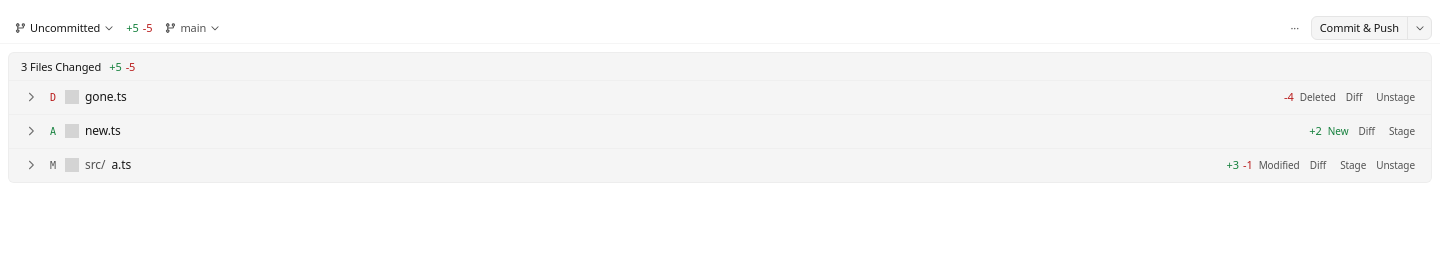
ChangesPanel › exposes Layout, Ignore Whitespace, and Find in the more menu
Click the button named "More changes actions": (1295, 28) [1283,16,1307,40]
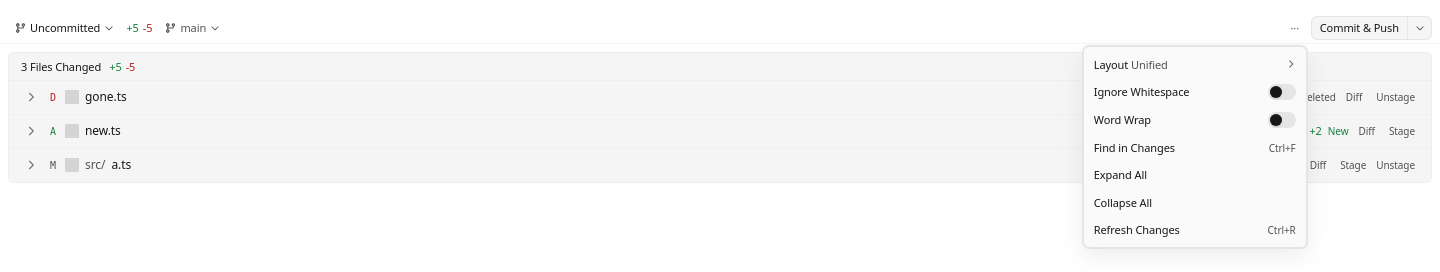
Check: the text "Layout Unified" is shown, box [1094,56,1168,72]
Check: the switch named "Ignore Whitespace" is shown, box [1268,84,1296,100]
Check: the button "Find in Changes Ctrl+F" is shown
Click the button "Find in Changes Ctrl+F": (1195, 148) [1084,134,1306,161]
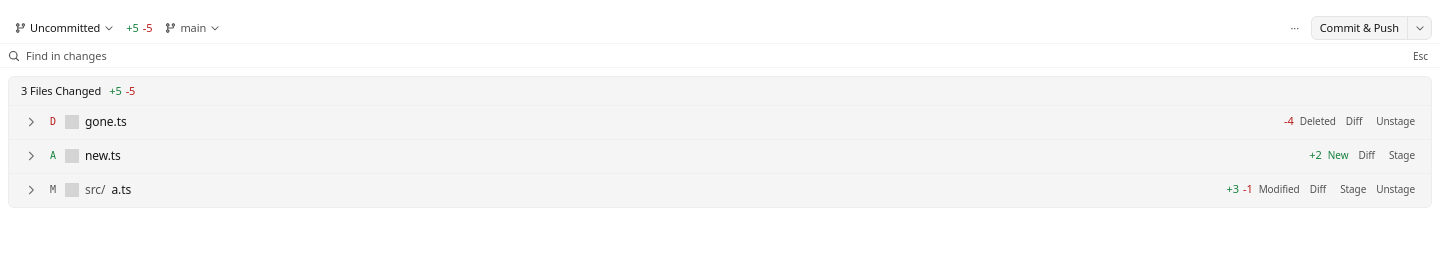
Check: the search field labelled "Find in changes" is shown, box [26,48,1403,63]
